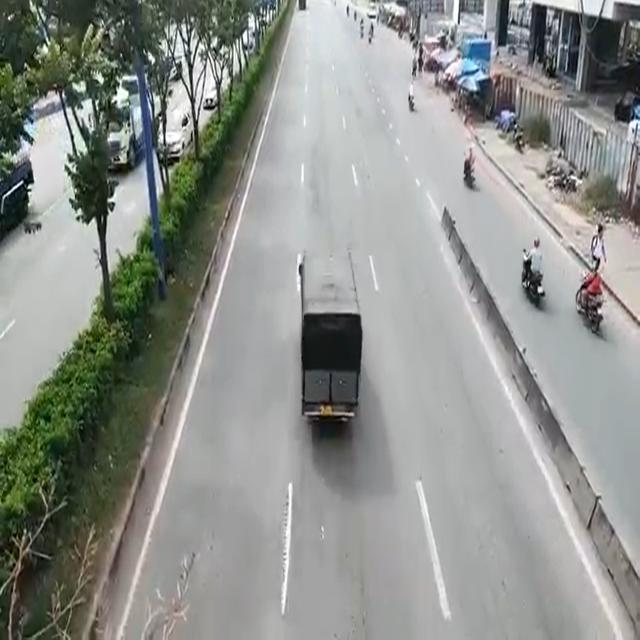truck: (304, 252, 356, 428)
